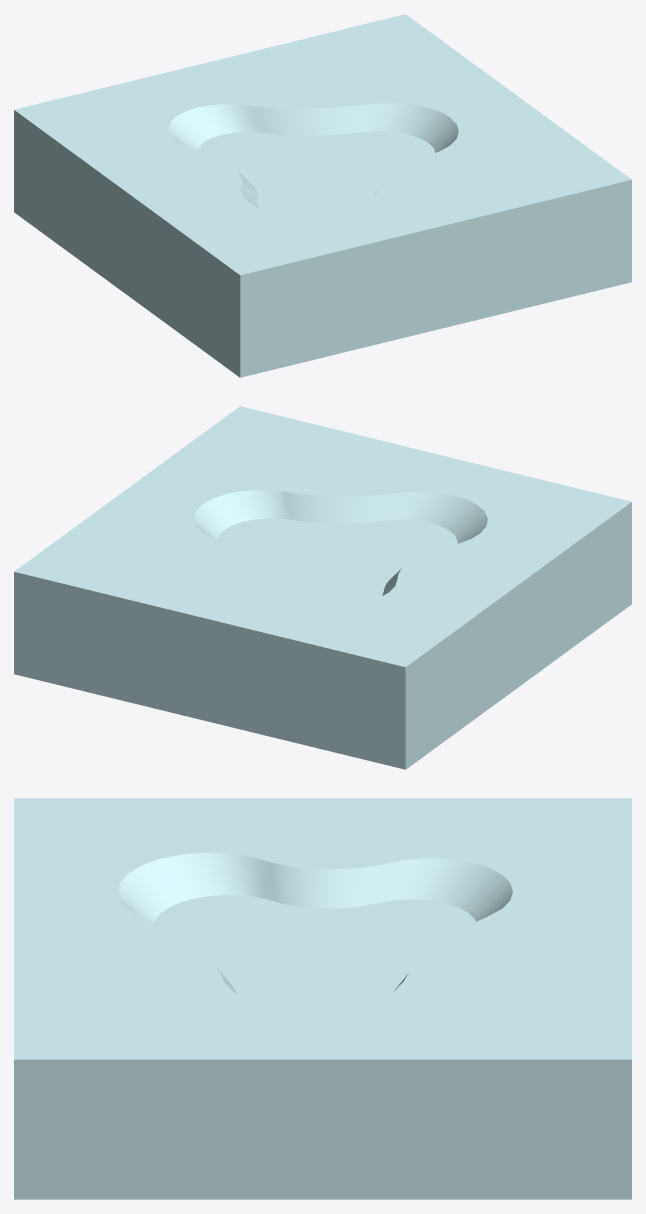
The model's file is ground_dirtRiverTile.fbx.
3 renders of one model, top to bottom at view 1: azimuth 30°, elevation 25°; view 2: azimuth 150°, elevation 25°; view 3: azimuth 270°, elevation 25°, orthographic. The views are drawn at different scales.
Visible parts, largest first — view 1: ground_dirtRiverTile; view 2: ground_dirtRiverTile; view 3: ground_dirtRiverTile.
Part boxes in pixels (x1,y1,x2,y2): ground_dirtRiverTile: (14, 14, 631, 377); ground_dirtRiverTile: (14, 406, 631, 769); ground_dirtRiverTile: (14, 798, 631, 1199).
Bounding box in the file's own units: 300 × 75 × 300.
